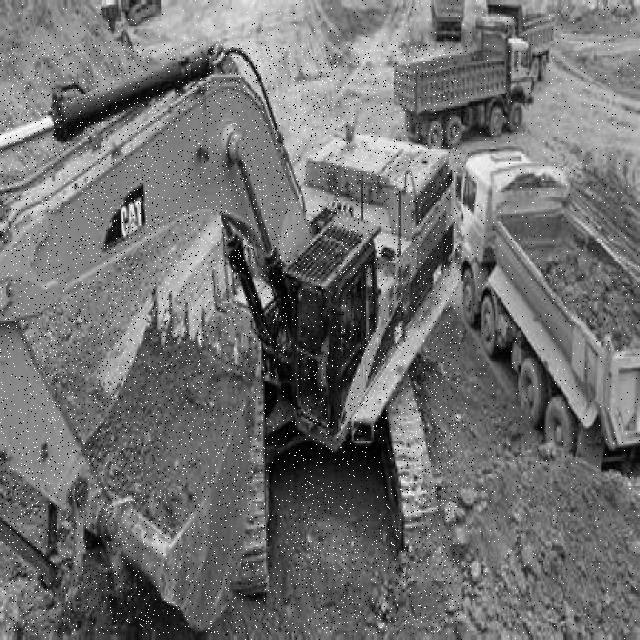Construction Equipment: (0, 44, 459, 634)
